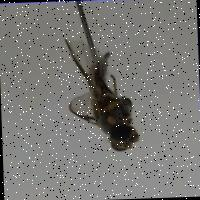Oriental-fruit-fly: (51, 29, 145, 160)
